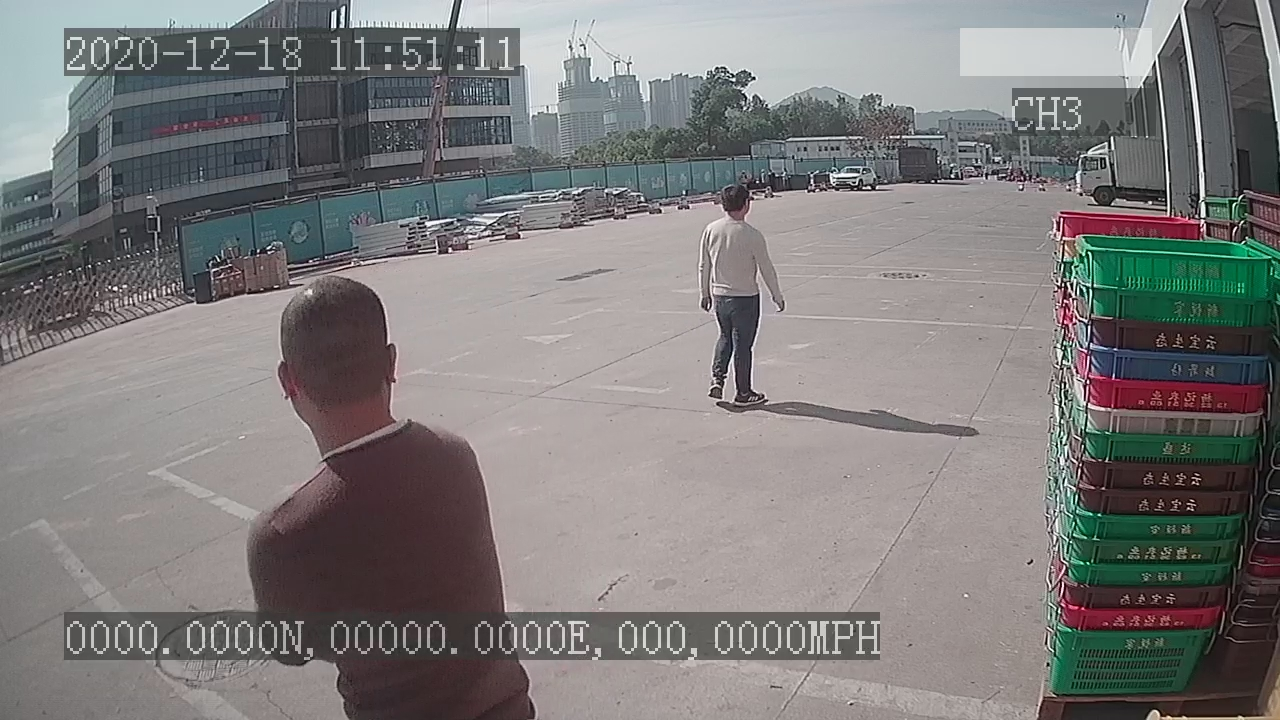person: (690, 181, 792, 413)
